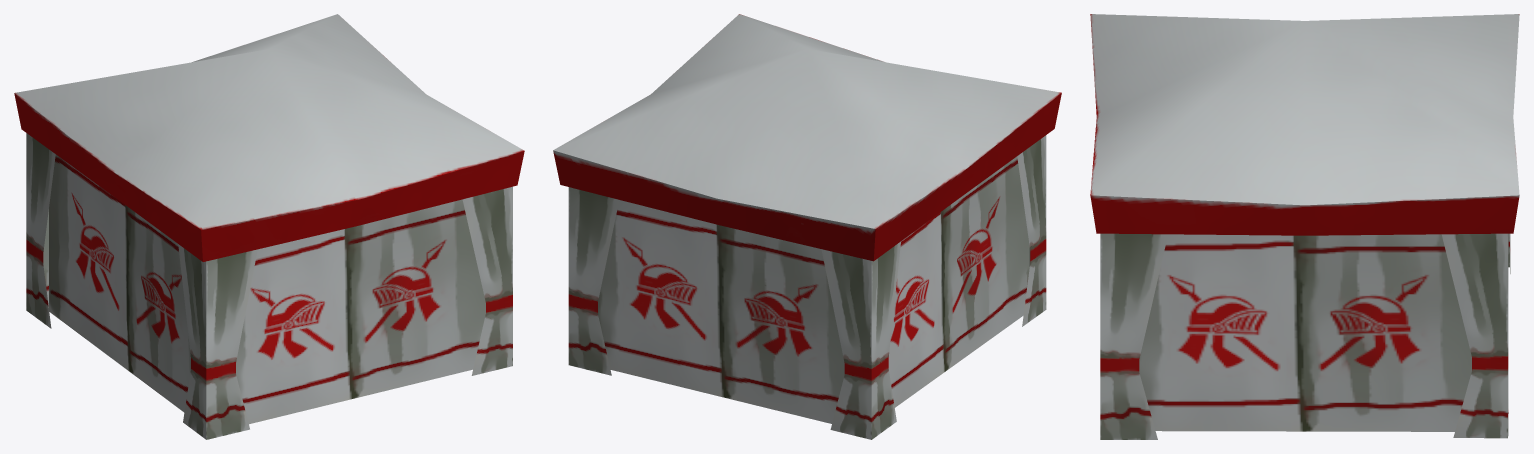
File: Rome_Village_Props_36.FBX
The picture shows the model from 3 angles, left to right: view 1: azimuth 30°, elevation 25°; view 2: azimuth 150°, elevation 25°; view 3: azimuth 270°, elevation 25°; orthographic projection. The views are drawn at different scales.
Visible parts, largest first — view 1: Rome_Village_Props_36; view 2: Rome_Village_Props_36; view 3: Rome_Village_Props_36.
Boxes of the visible parts, x1,y1,x2,y2 form: Rome_Village_Props_36: (14, 14, 524, 439); Rome_Village_Props_36: (553, 14, 1061, 439); Rome_Village_Props_36: (1090, 14, 1519, 439).
Size of the model in its own units: 315 by 269 by 315.
